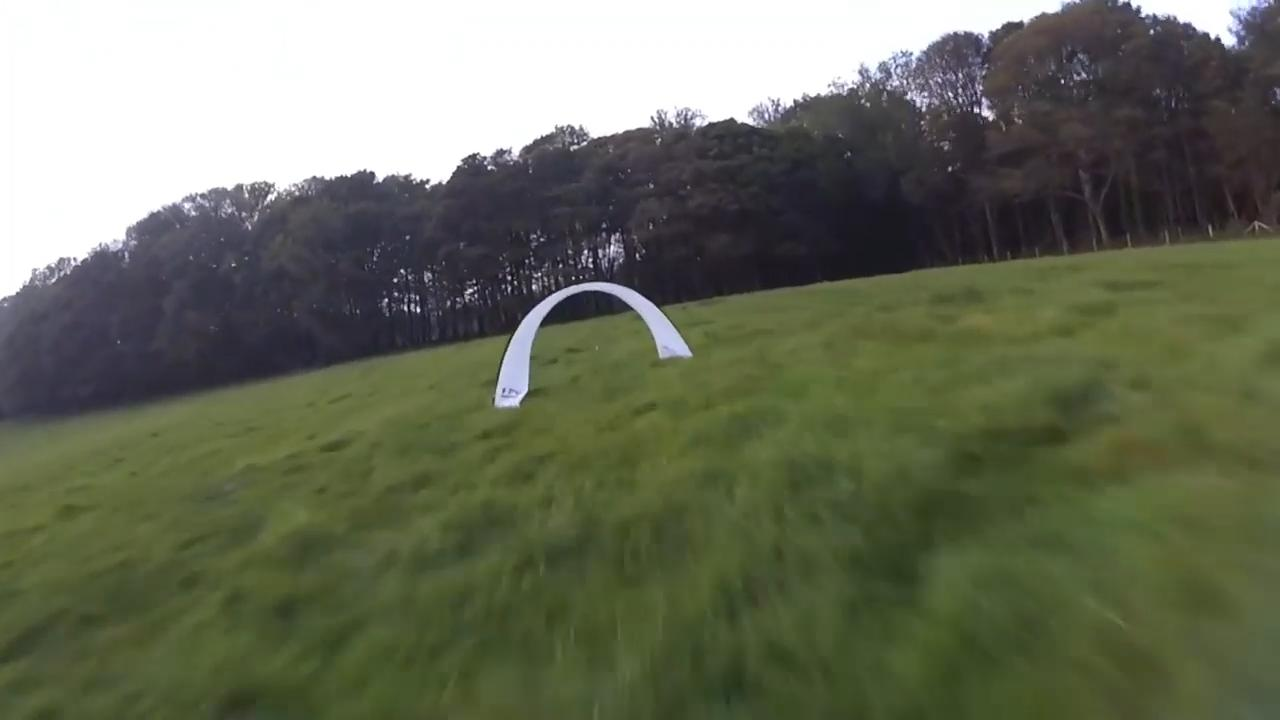gate: (493, 278, 692, 405)
